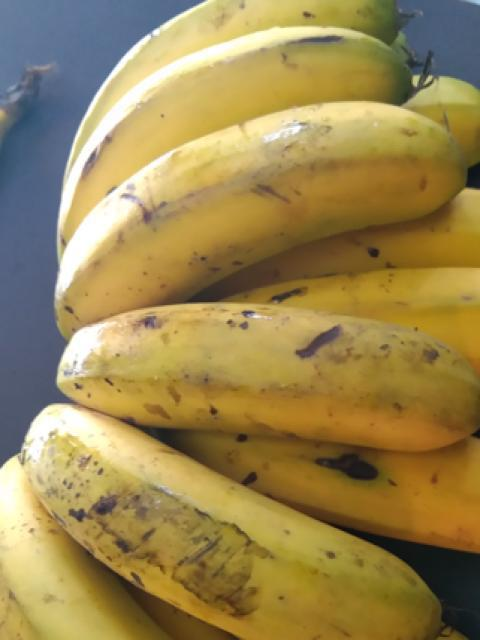ripe: (9, 407, 436, 634), (56, 107, 443, 341), (28, 291, 455, 470), (74, 14, 416, 218)
